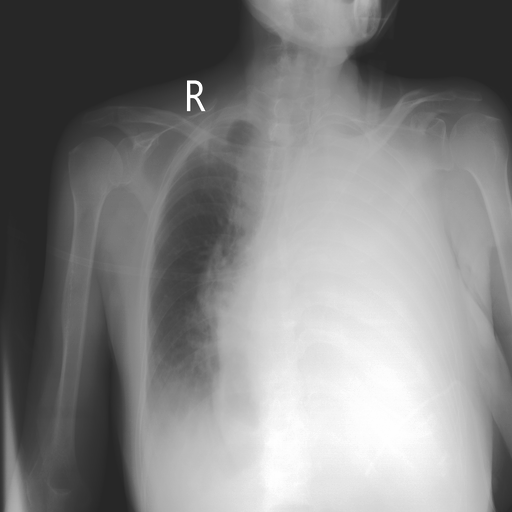Other lesion: (143, 379, 208, 477)
Pleural effusion: (301, 124, 471, 435)
Pleural thickening: (301, 124, 471, 435), (143, 379, 208, 477)
